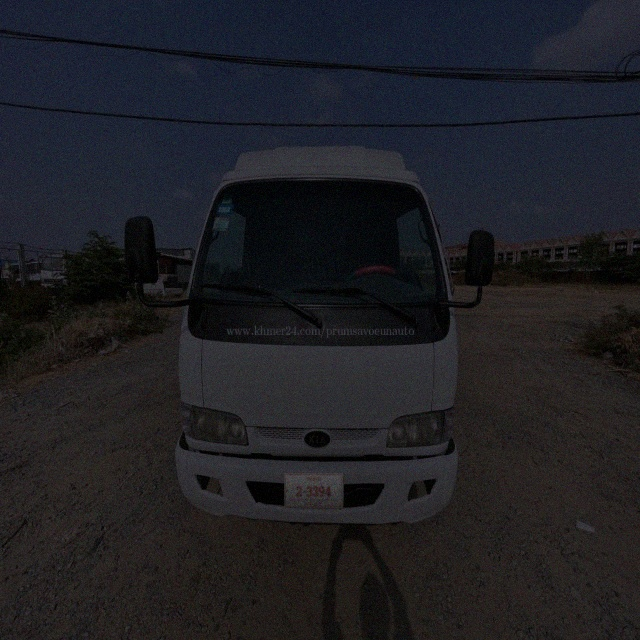Plate Number: (285, 474, 343, 508)
